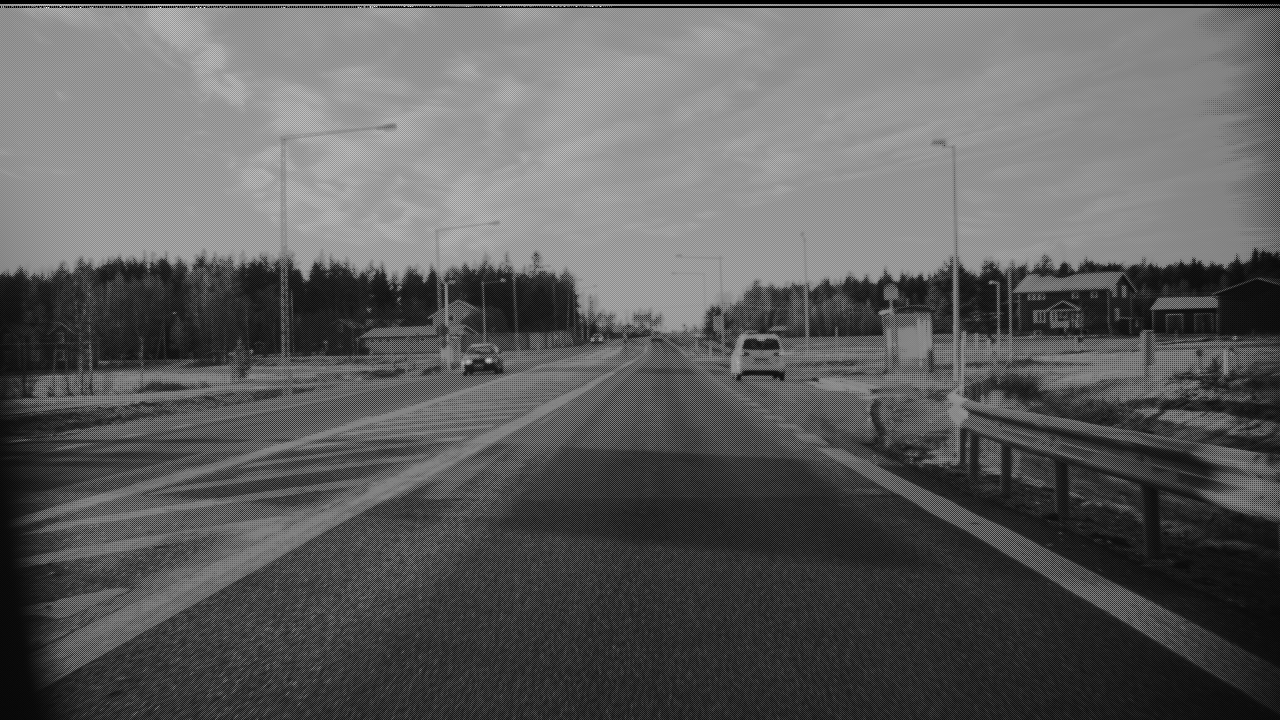pole: (988, 132, 1001, 388), (834, 225, 848, 364), (321, 141, 329, 374), (471, 227, 478, 348), (555, 252, 561, 348)
